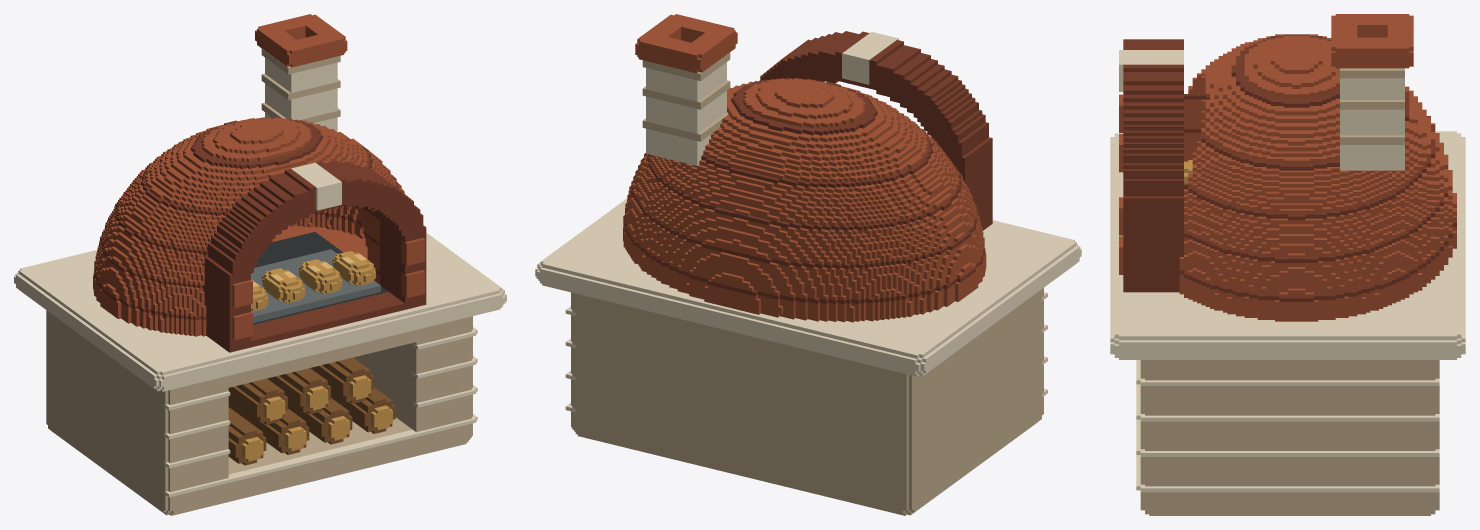
Rendered from bread_oven.glb.
The picture shows the model from 3 angles, left to right: view 1: azimuth 30°, elevation 25°; view 2: azimuth 150°, elevation 25°; view 3: azimuth 270°, elevation 25°; orthographic projection. The views are drawn at different scales.
Parts seen in each view (by area): view 1: bread_oven; view 2: bread_oven; view 3: bread_oven.
Part boxes in pixels (x1,y1,x2,y2): bread_oven: (14,14,506,515); bread_oven: (535,14,1081,515); bread_oven: (1110,14,1465,515).
Bounding box in the file's own units: 2.85 × 2.8 × 2.05.
